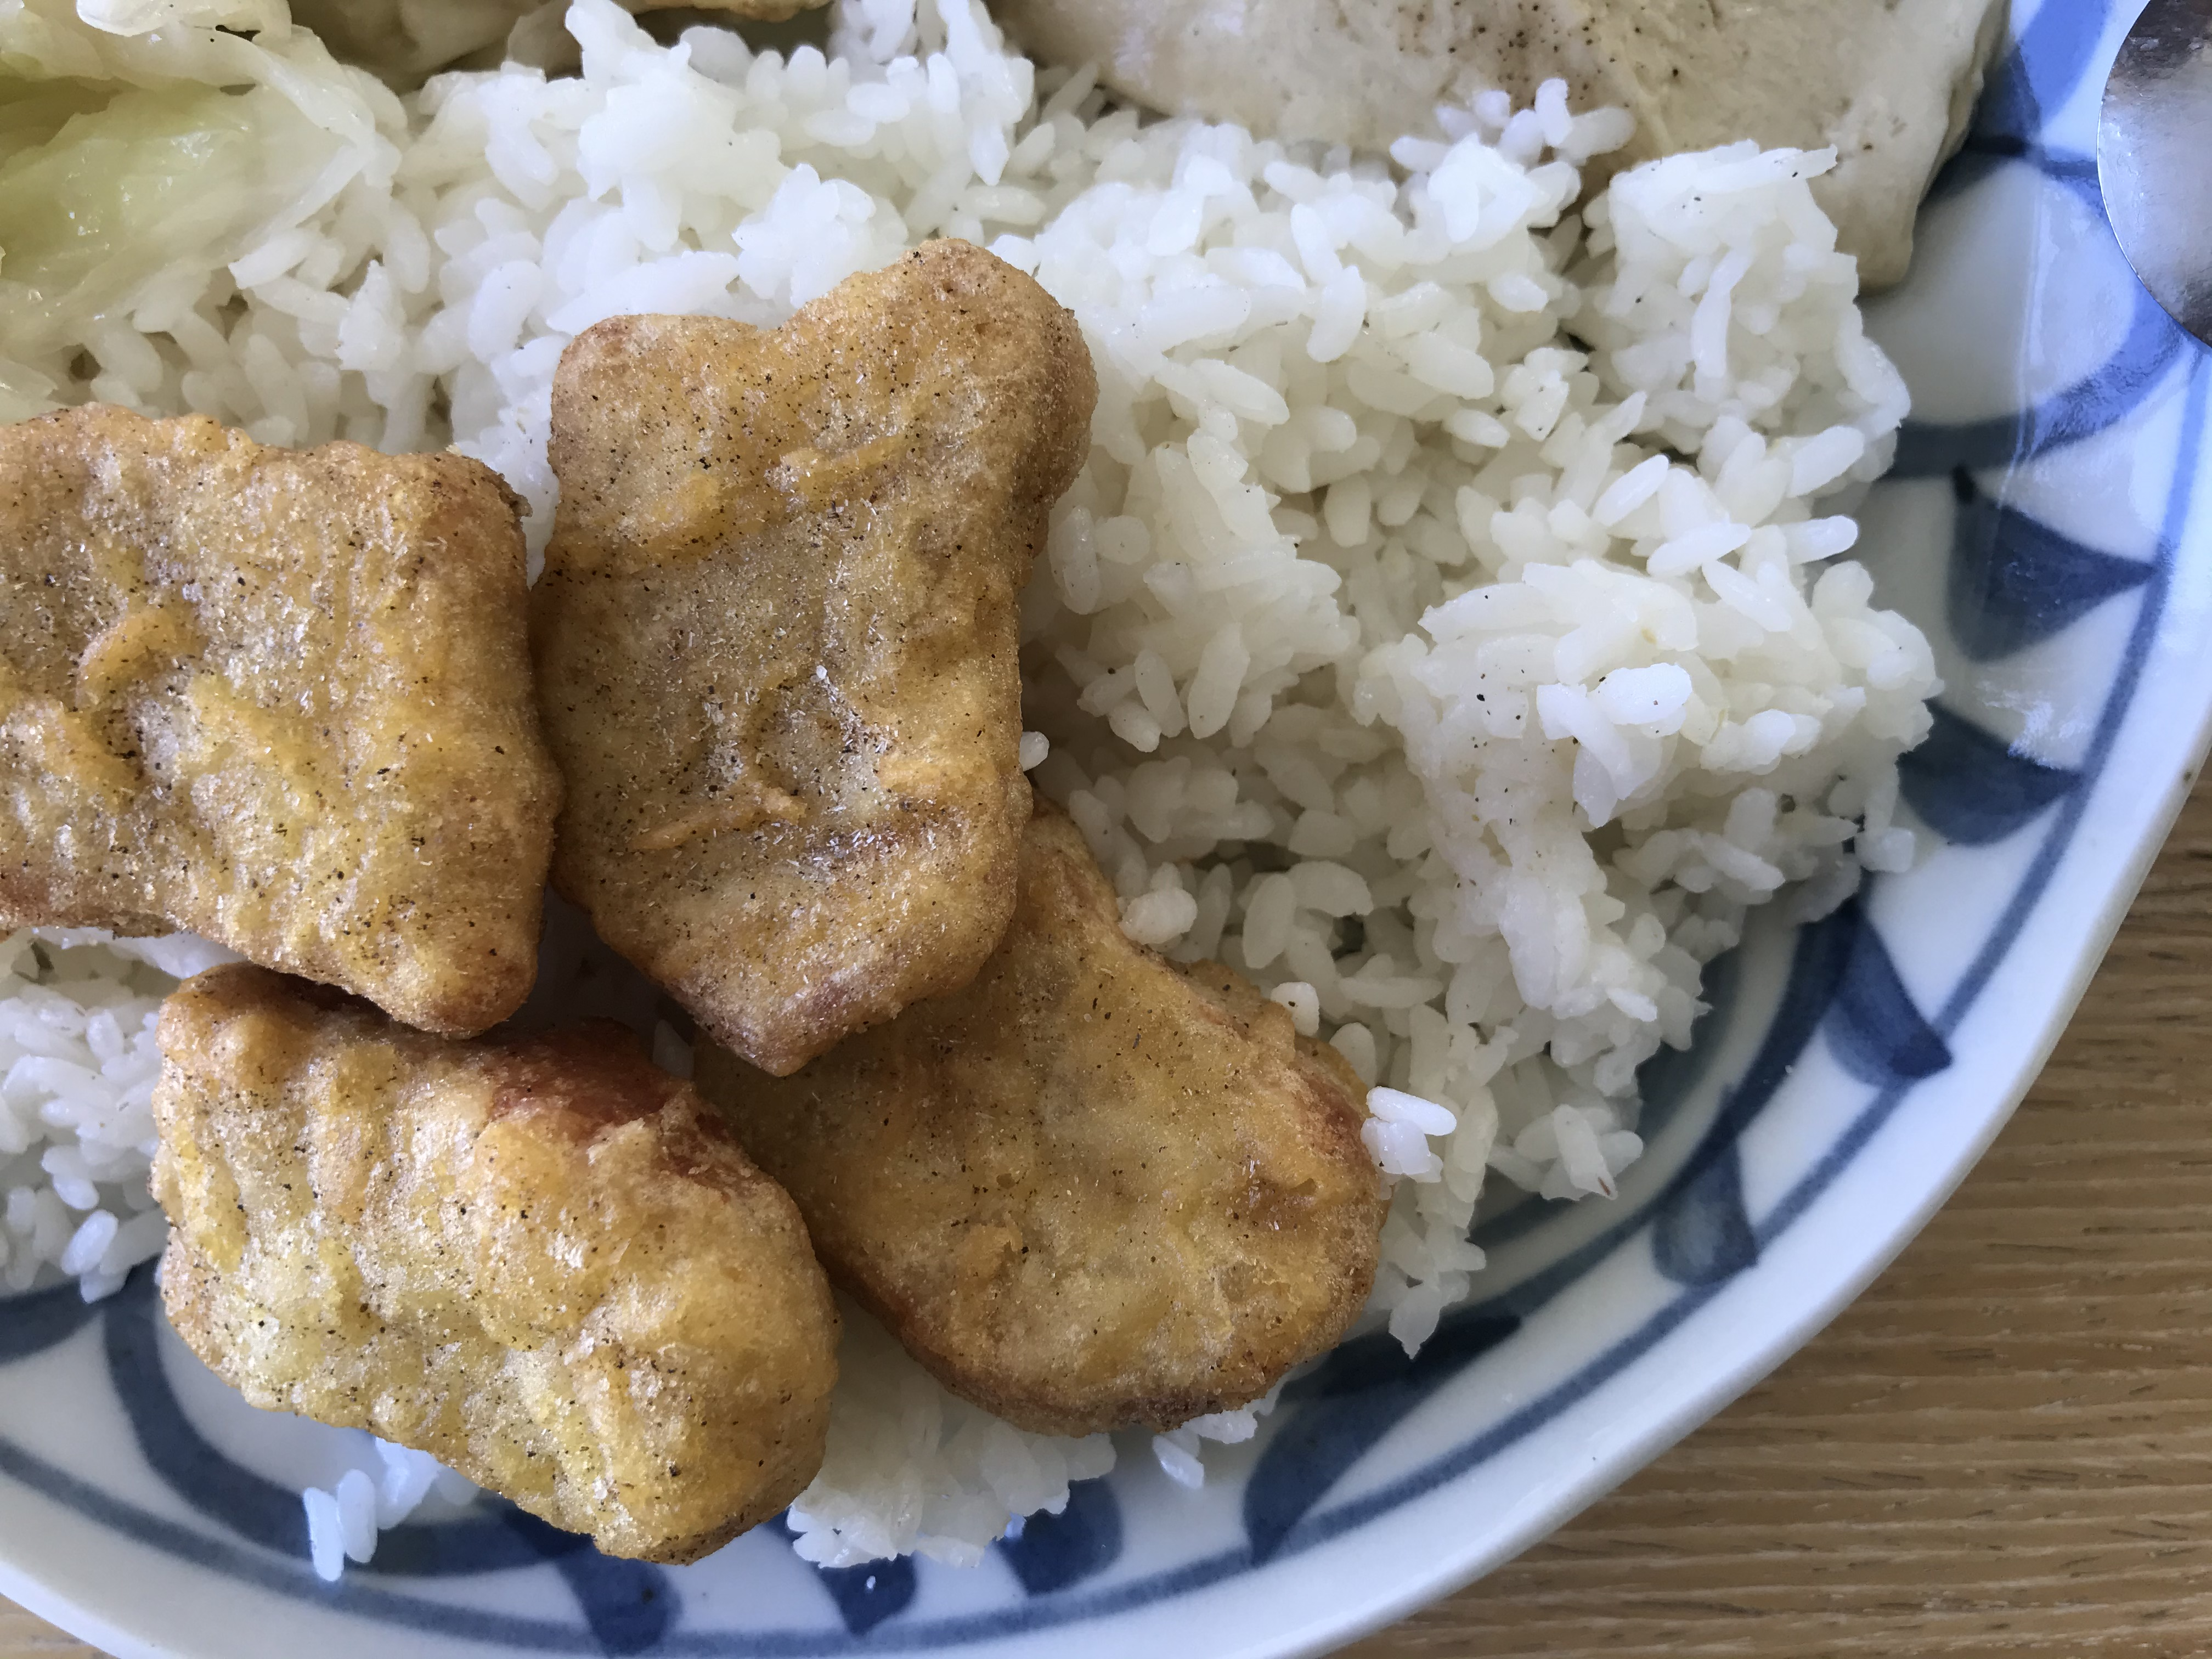chicken_nuggets: (0, 260, 1357, 1554)
rice: (941, 101, 1909, 1134)
